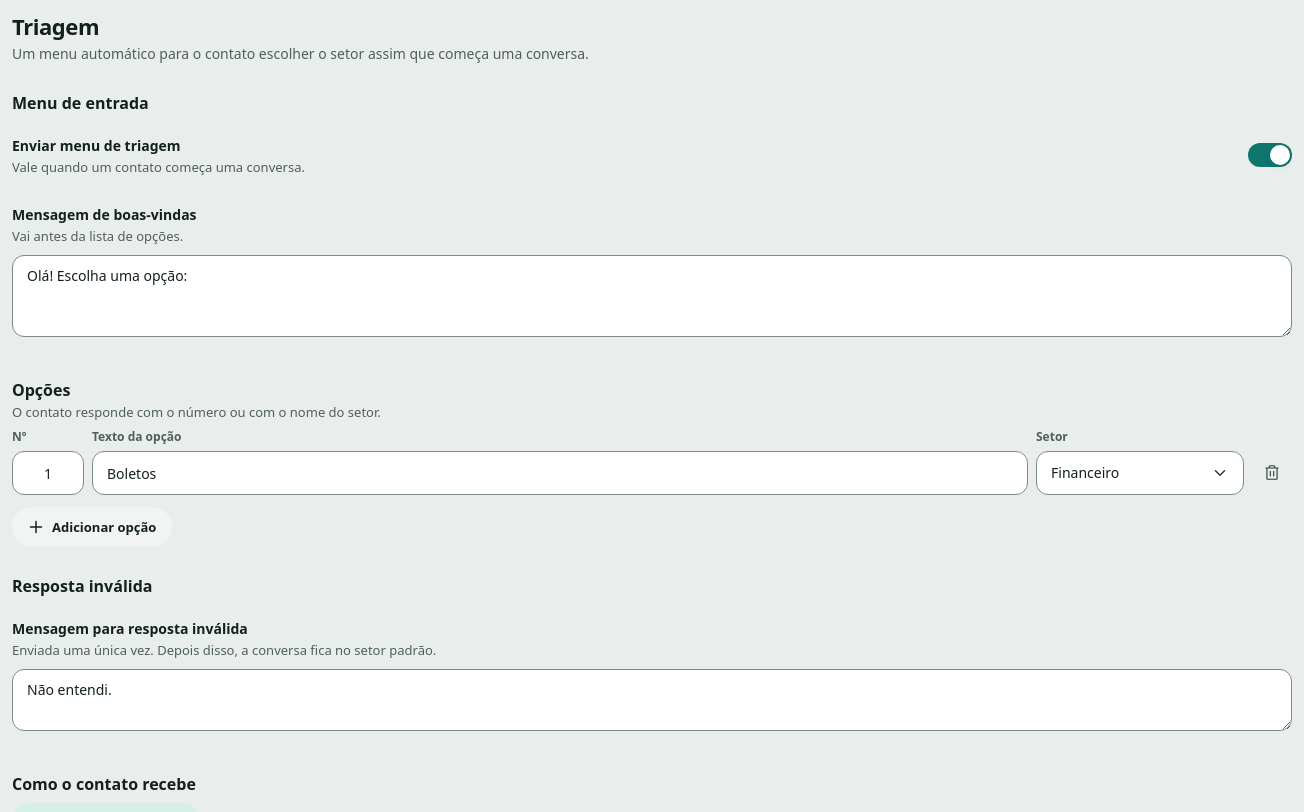
saves the menu with the option texts trimmed, then says it was saved
The image size is (1304, 812).
Replace the text in the field named "Texto da opção 1" with "  2ª via de boleto  " at [560, 473], box x1=92 y1=451 x2=1028 y2=495
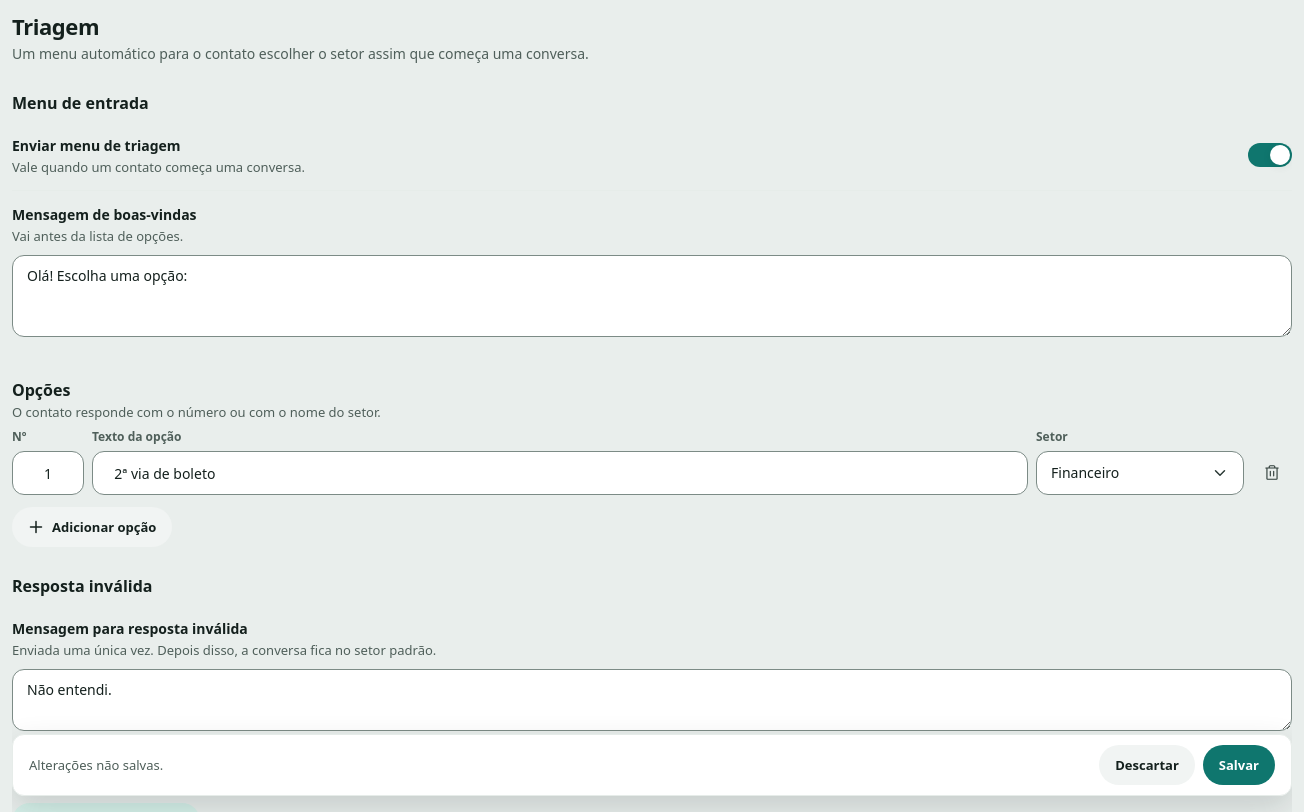
Click the switch named "Enviar menu de triagem quando um contato começa uma conversa" at [1270, 154], box x1=1248 y1=142 x2=1292 y2=166
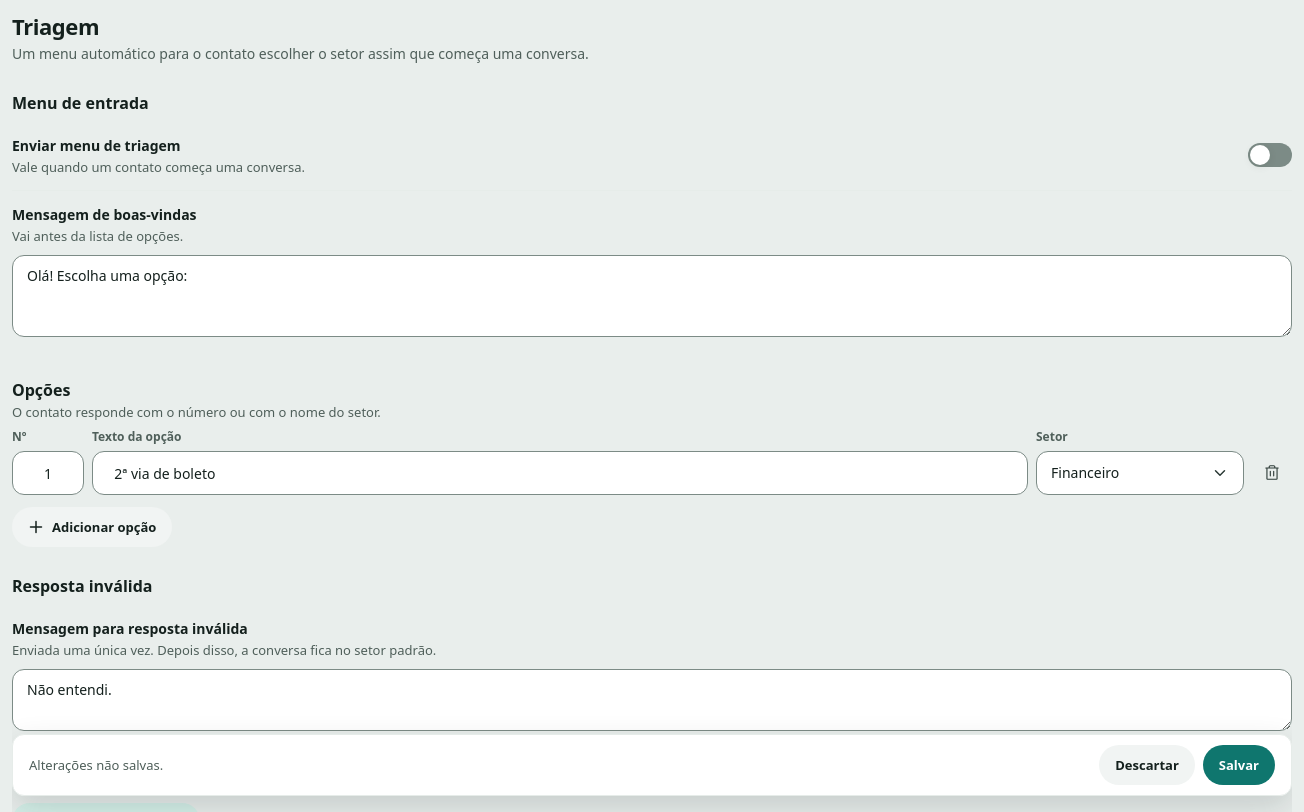
Click the button "Salvar" at [1239, 765], box x1=1203 y1=745 x2=1275 y2=785
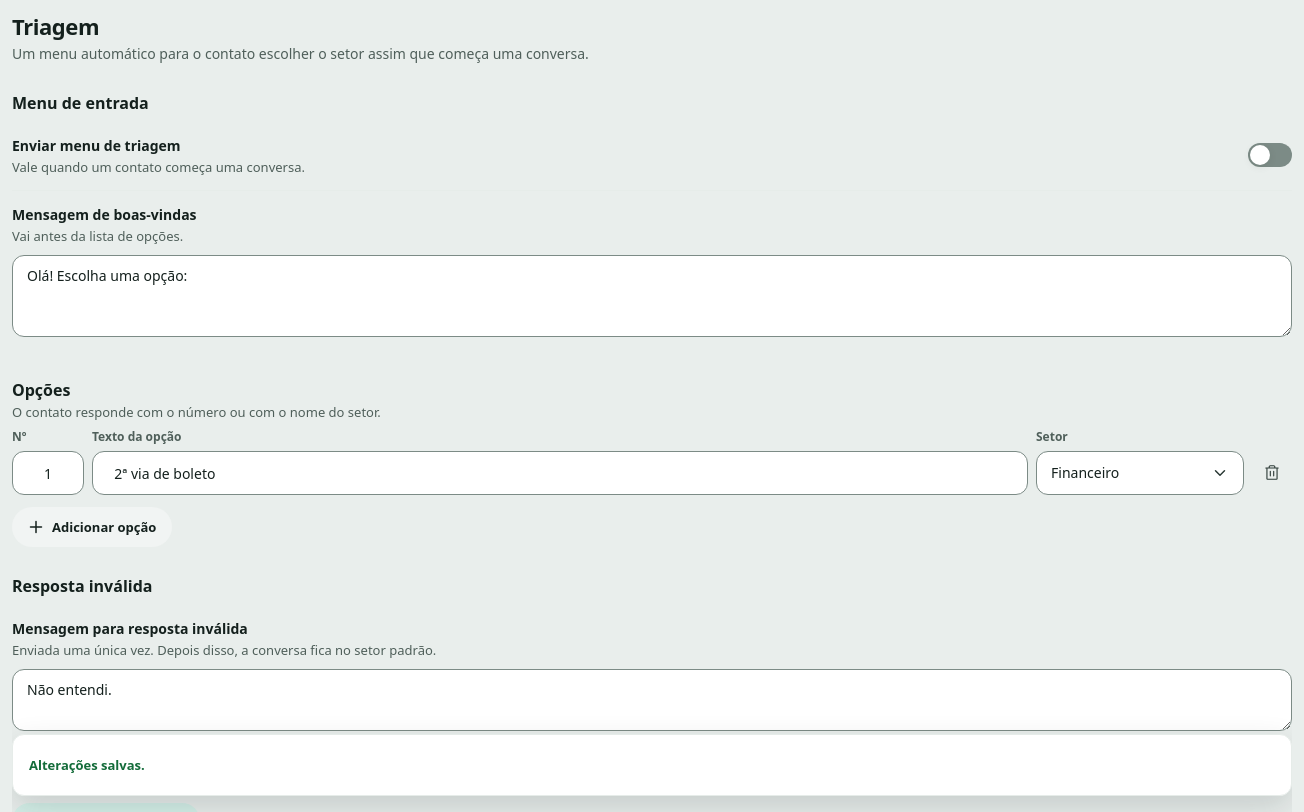
Expected: the text "Alterações salvas." is shown, x1=29 y1=756 x2=145 y2=774
